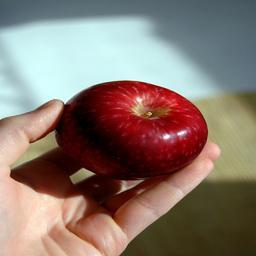apple: (56, 81, 208, 180)
